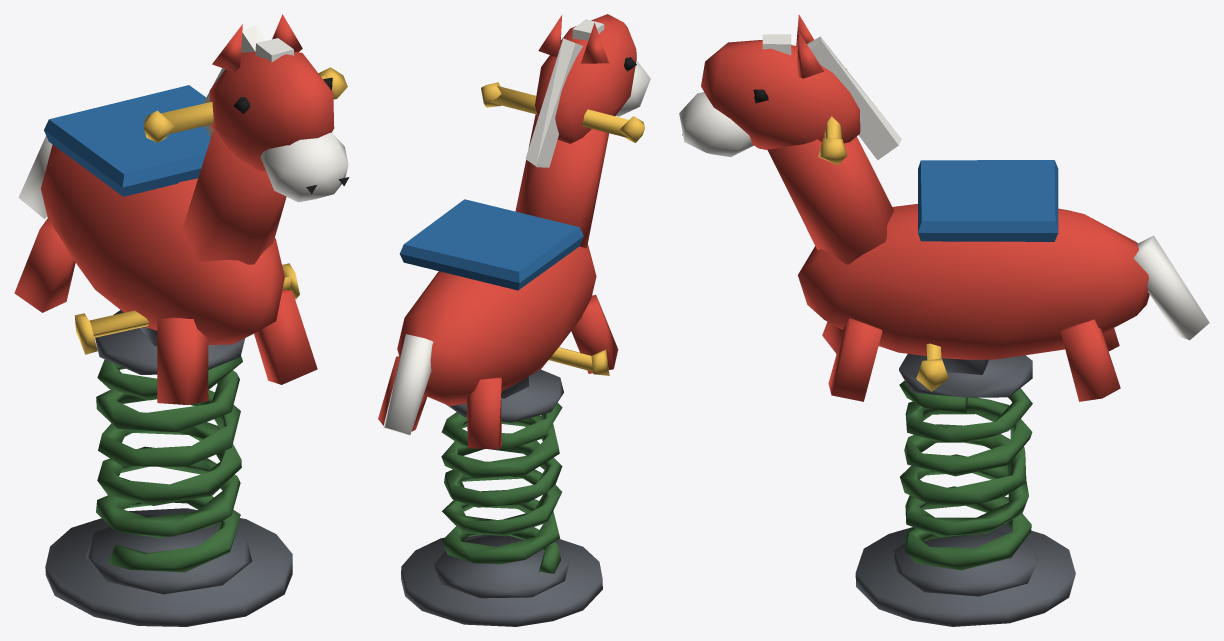
The model's file is springRider.far.glb.
3 views of the same model, side by side, from view 1: azimuth 30°, elevation 25°; view 2: azimuth 150°, elevation 25°; view 3: azimuth 270°, elevation 25° (orthographic). The views are drawn at different scales.
Visible parts, largest first — view 1: springRider_far; view 2: springRider_far; view 3: springRider_far.
Part boxes in pixels (box(x1,y1,x2,y2)): springRider_far: box(14, 14, 349, 626); springRider_far: box(378, 14, 650, 626); springRider_far: box(679, 14, 1209, 626).
Bounding box in the file's own units: 0.4 × 1.11 × 0.9548.
